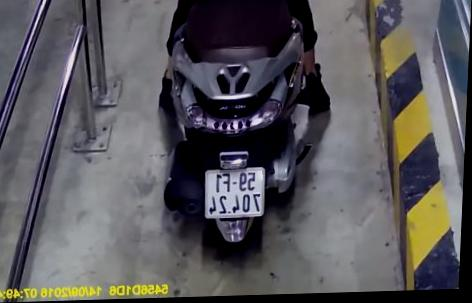License_Plate: (198, 163, 270, 222)
